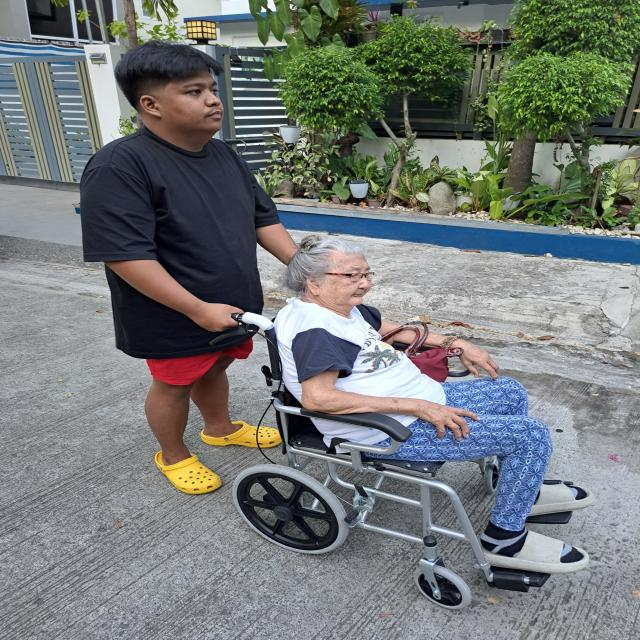wheelchairs: (215, 296, 600, 615)
